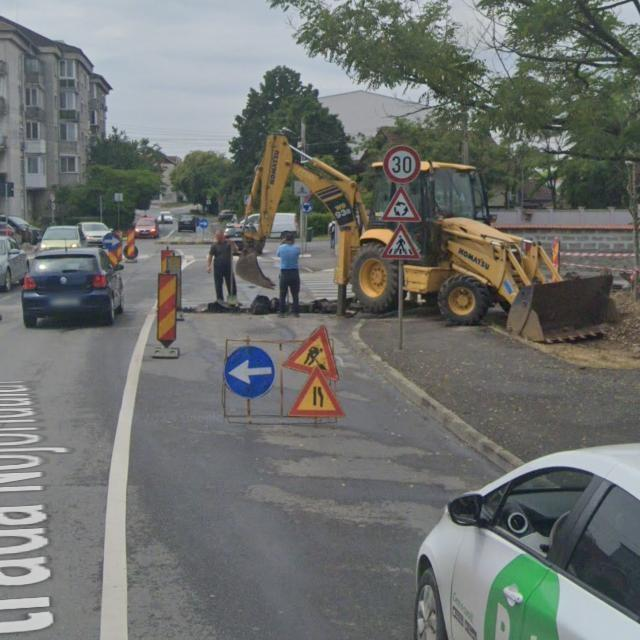forb_speed_over_30: (383, 145, 421, 185)
warn_crosswalk: (381, 222, 421, 260)
